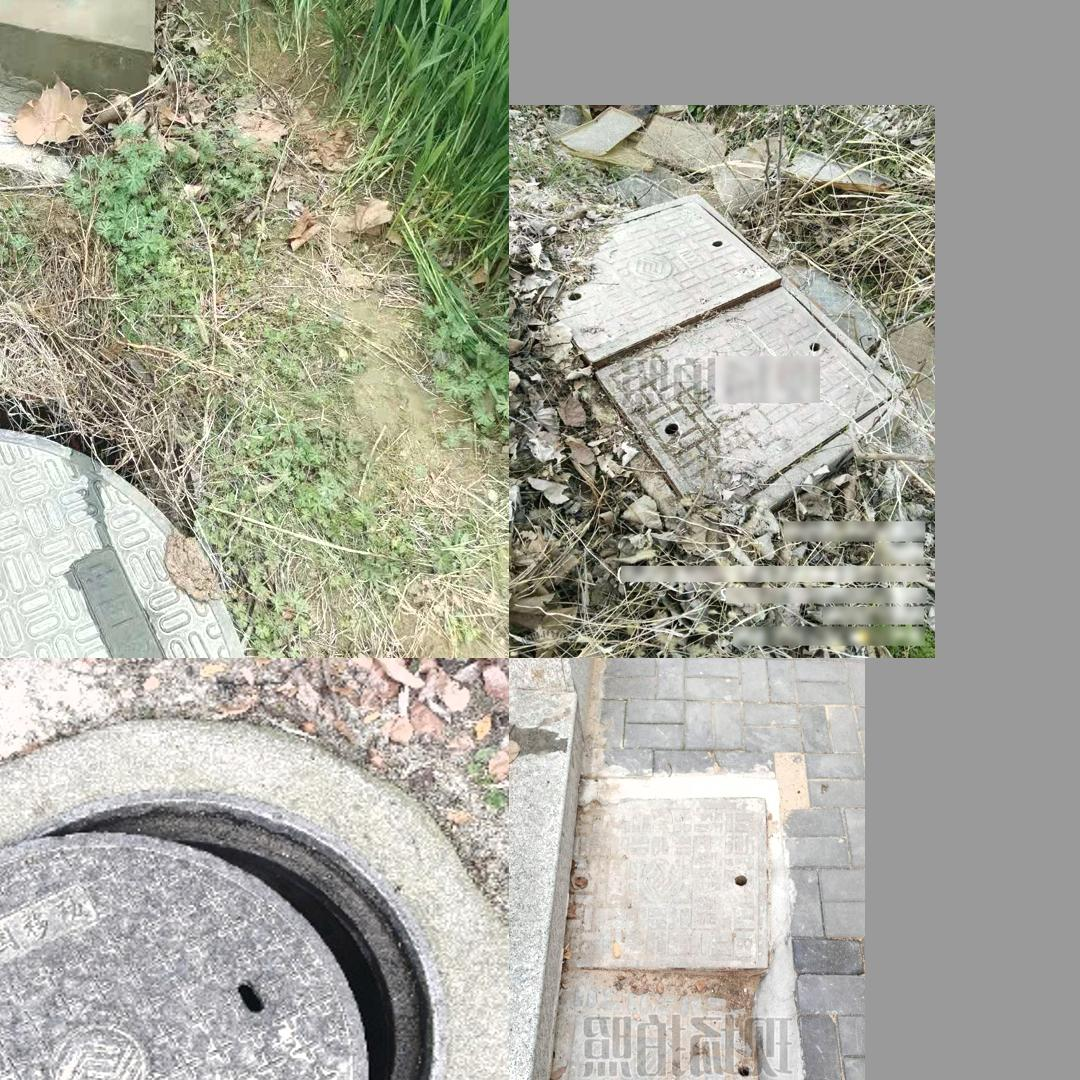uncovered: (522, 190, 908, 528), (0, 791, 448, 1080), (0, 345, 246, 658), (536, 776, 787, 1080)
